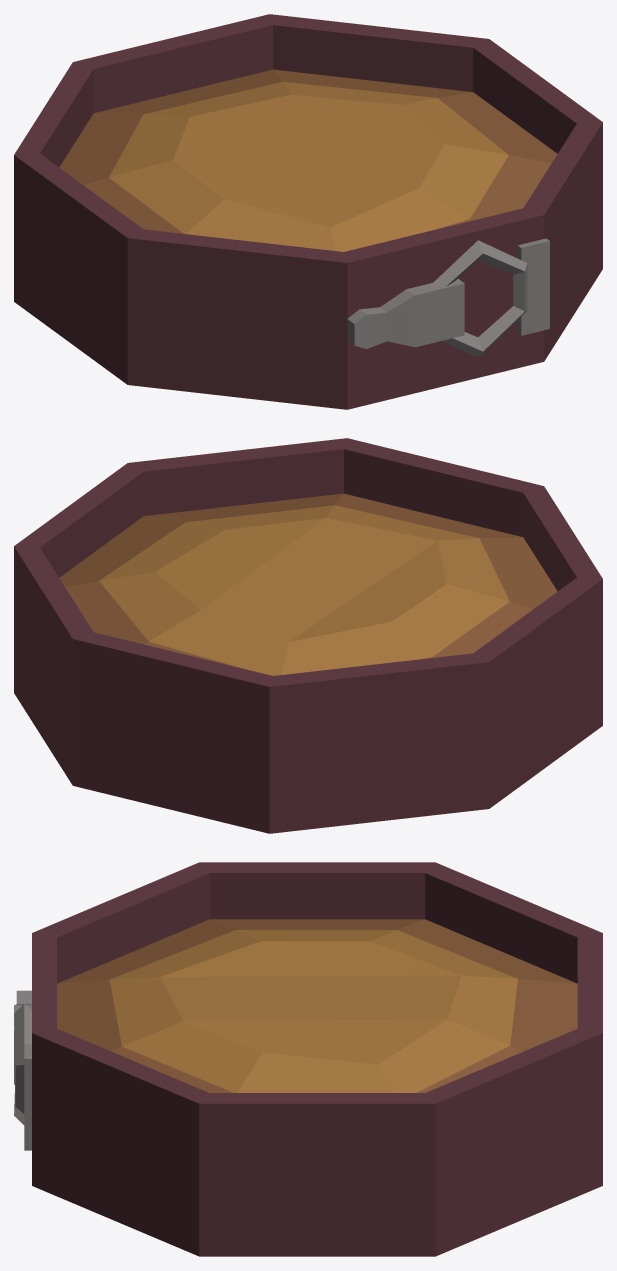
The model's file is springform-cake.fbx.
3 views of the same model, one above another, from view 1: azimuth 30°, elevation 25°; view 2: azimuth 150°, elevation 25°; view 3: azimuth 270°, elevation 25° (orthographic). The views are drawn at different scales.
Visible parts, largest first — view 1: springform-cake; view 2: springform-cake; view 3: springform-cake.
Part boxes in pixels (box(x1,y1,x2,y2)): springform-cake: box(14, 14, 602, 409); springform-cake: box(14, 438, 602, 833); springform-cake: box(14, 862, 602, 1256).
Bounding box in the file's own units: 0.2033 × 0.06 × 0.2096.
